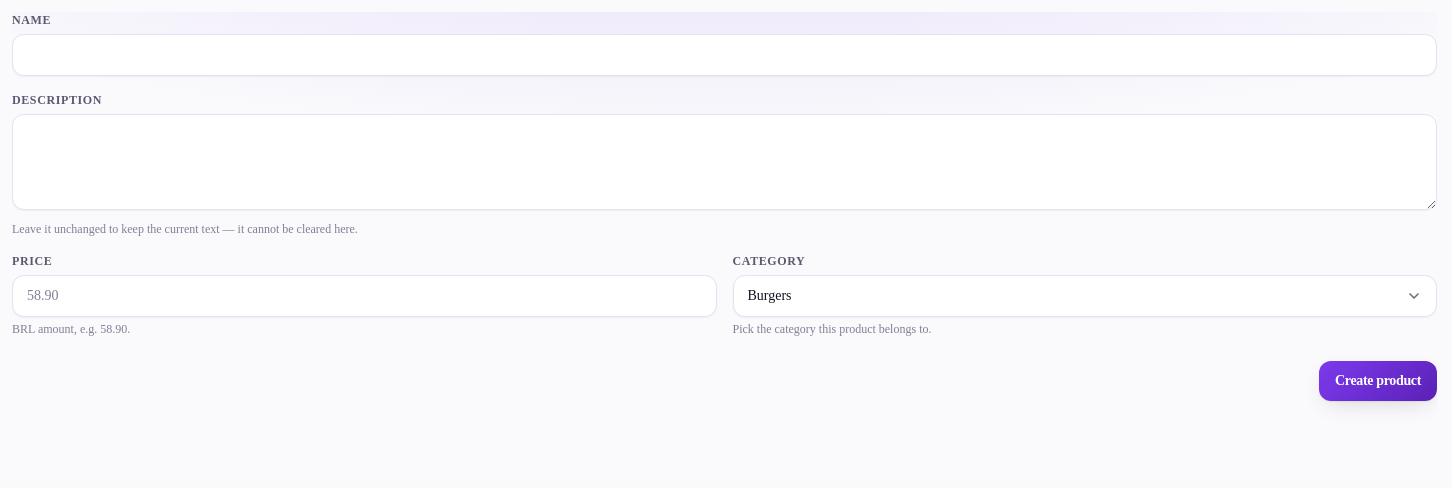
Test: ProductForm (create) › surfaces a mapped server error (e.g. 409 name_taken)
The image size is (1452, 488).
In the field labelled "Name": (724, 55) 12,34 -> 1437,76, type "Fries"
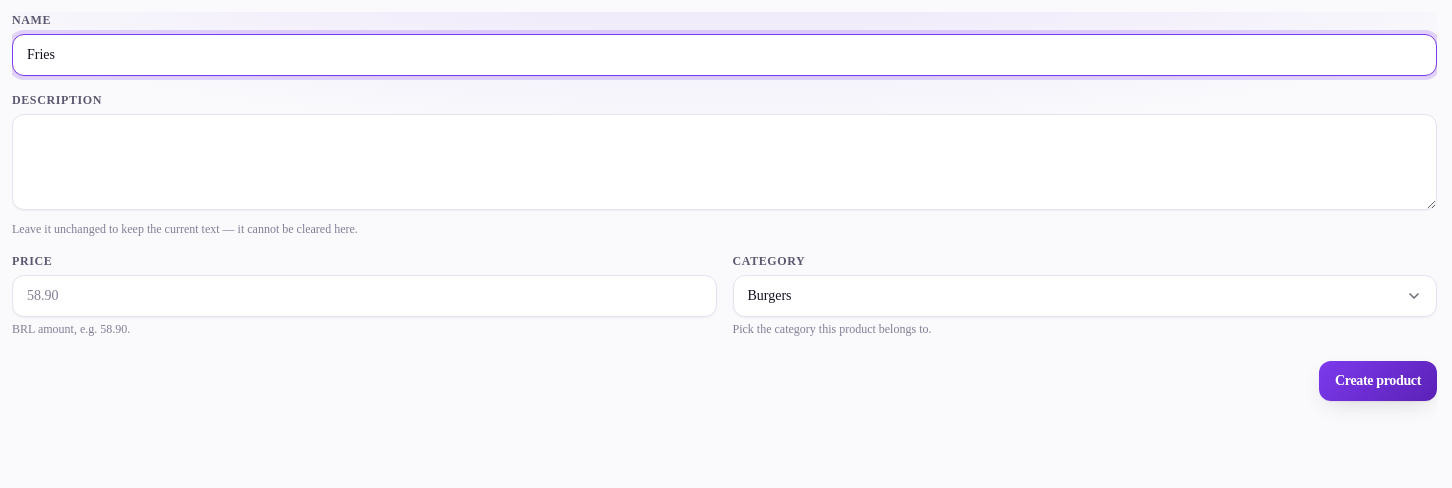
In the field labelled "Price": (364, 296) 12,275 -> 716,317, type "9.90"
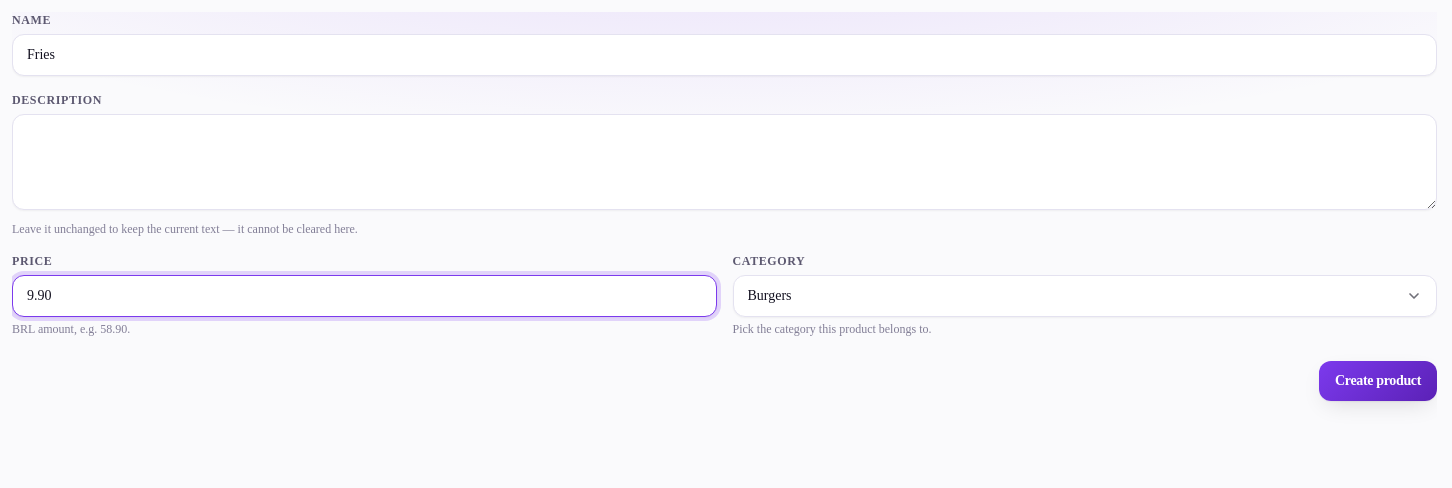
Click the button "Create product": (1378, 381) 1319,361 -> 1437,401
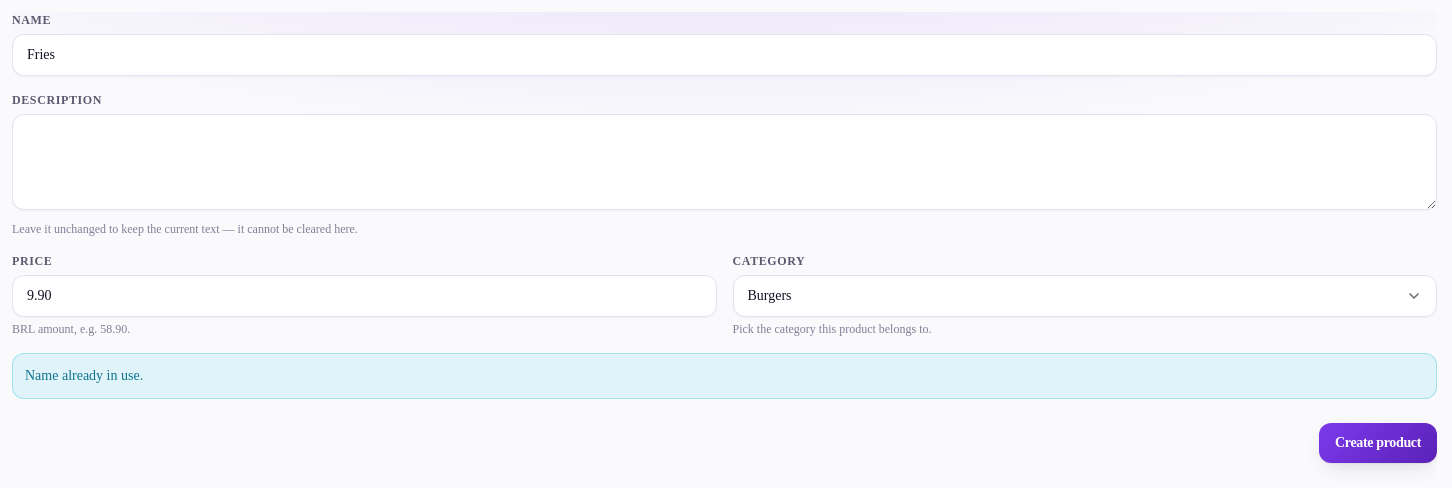
Expected: the message shows "Name already", 25,368 -> 143,383
